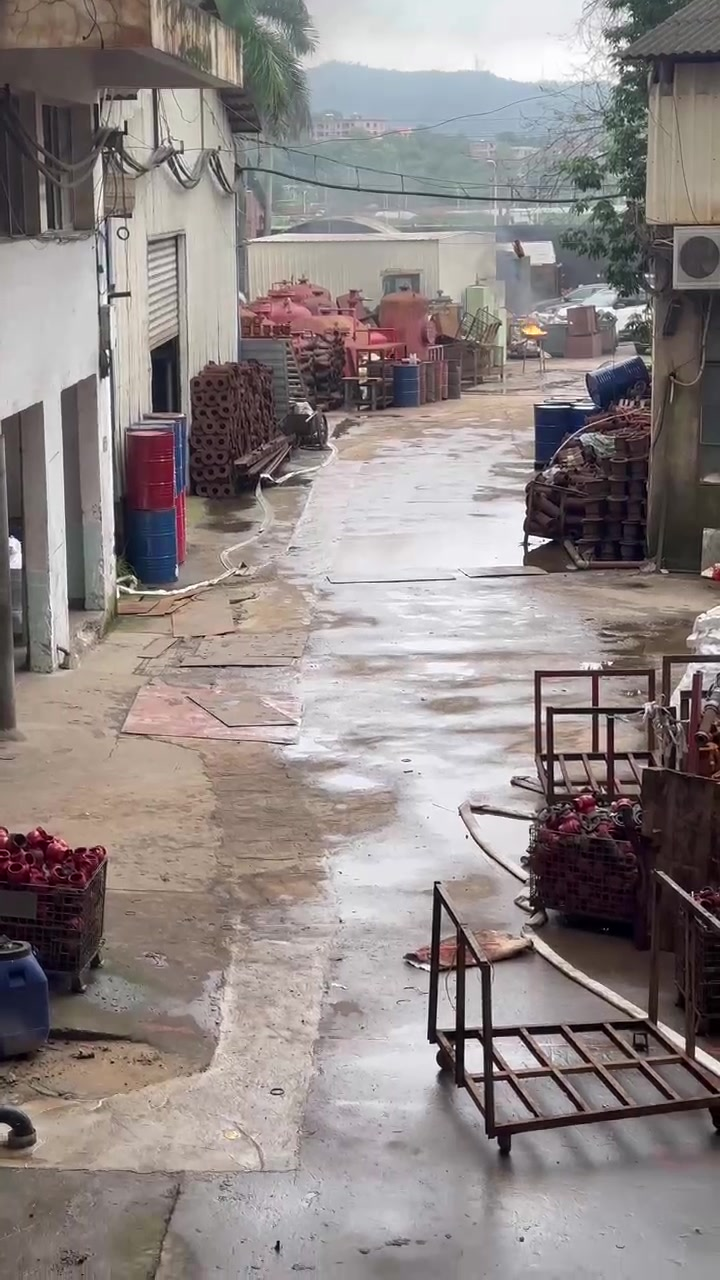fire: (521, 325, 547, 335)
